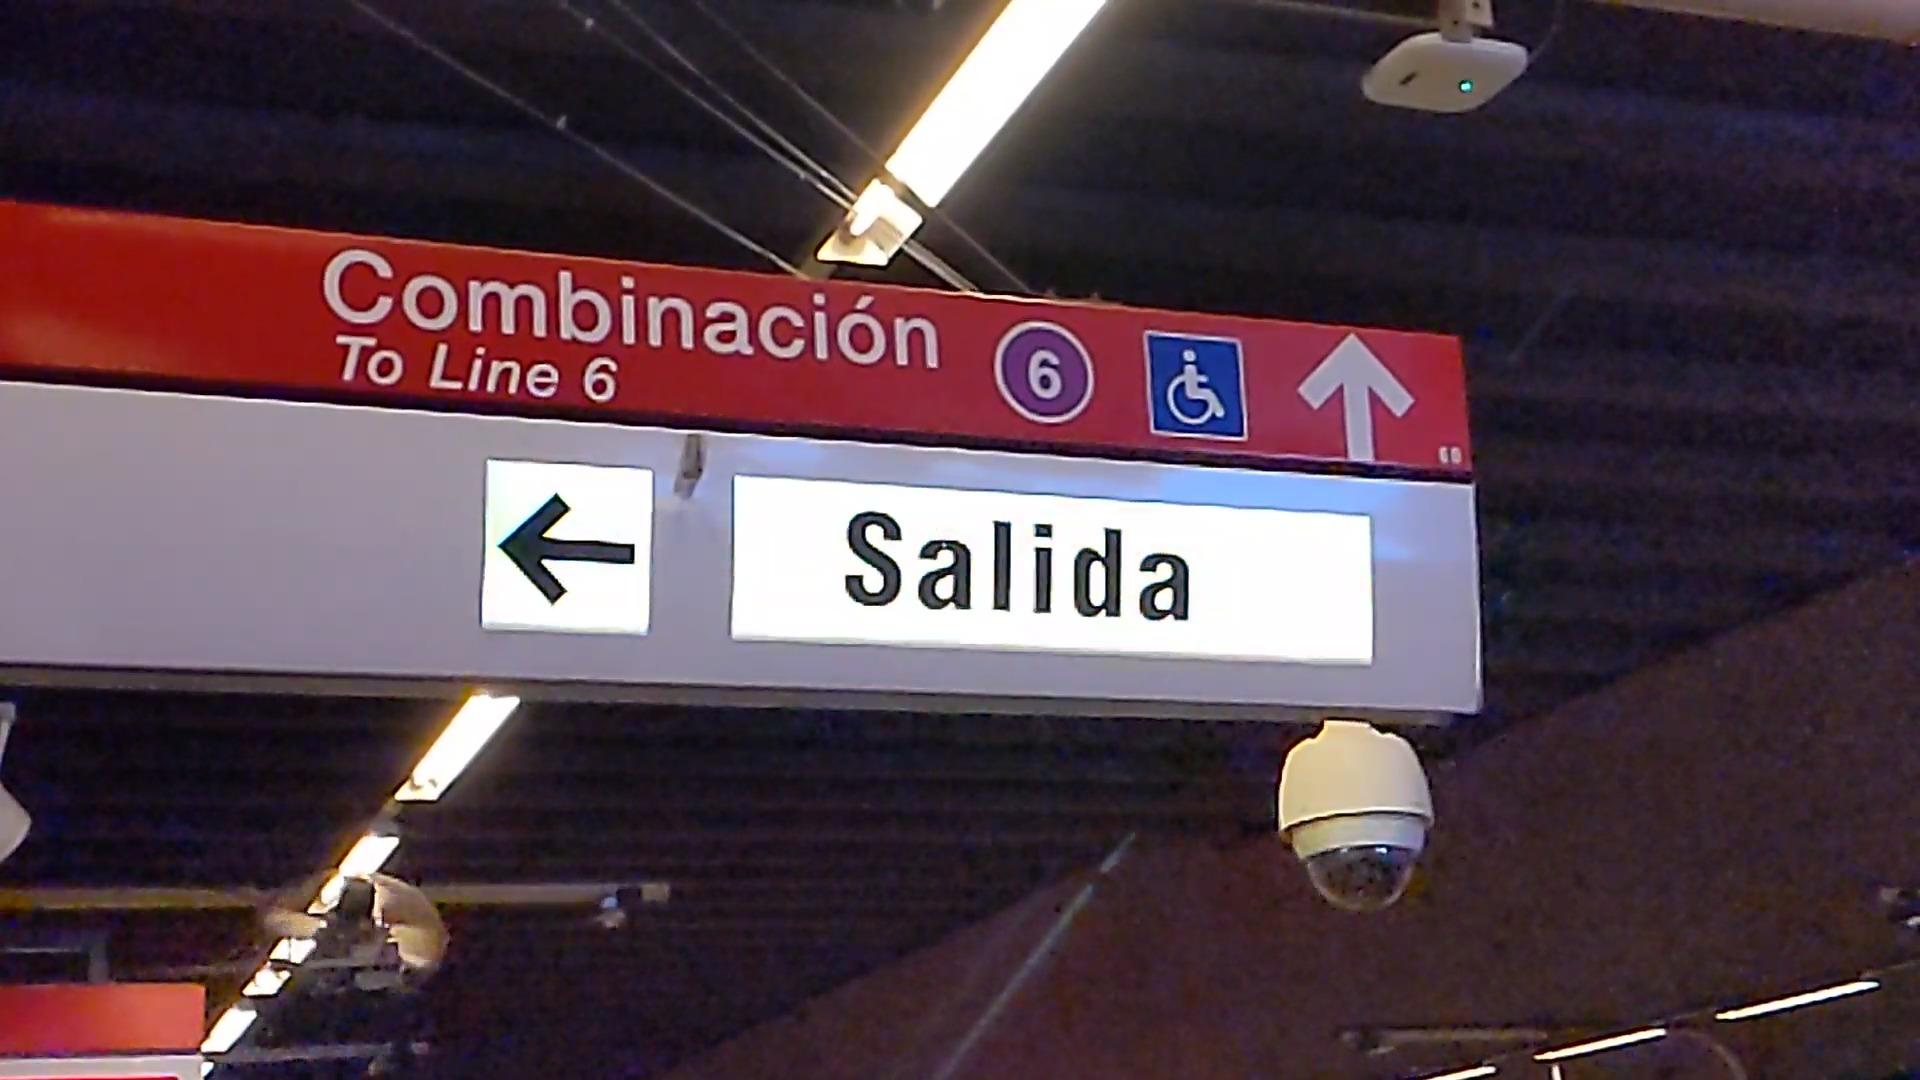handicapped symbol: (1167, 347, 1228, 426)
left arrow: (495, 488, 642, 609)
up arrow: (1296, 330, 1419, 464)
